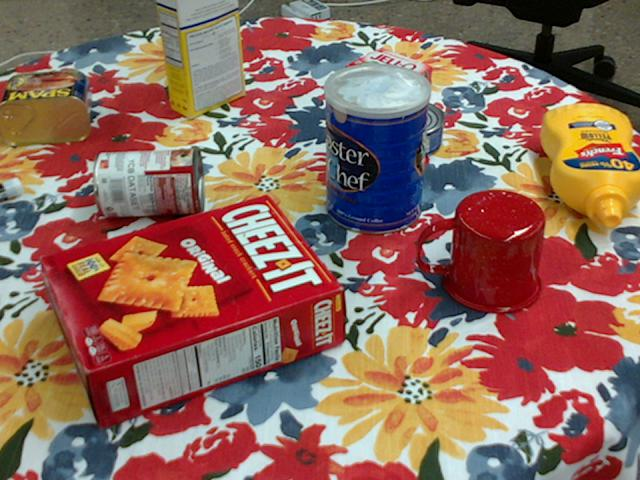cracker_box: (39, 196, 342, 429)
gelatin_box: (343, 50, 431, 105)
large_marker: (0, 177, 22, 200)
master_chef_can: (323, 63, 430, 236)
mug: (417, 189, 545, 314)
mustard_bottle: (539, 102, 639, 226)
potted_meat_can: (0, 70, 91, 144)
sugar_box: (158, 0, 245, 116)
tomato_soup_can: (92, 147, 202, 217)
tuna_fish_can: (370, 99, 444, 159)
